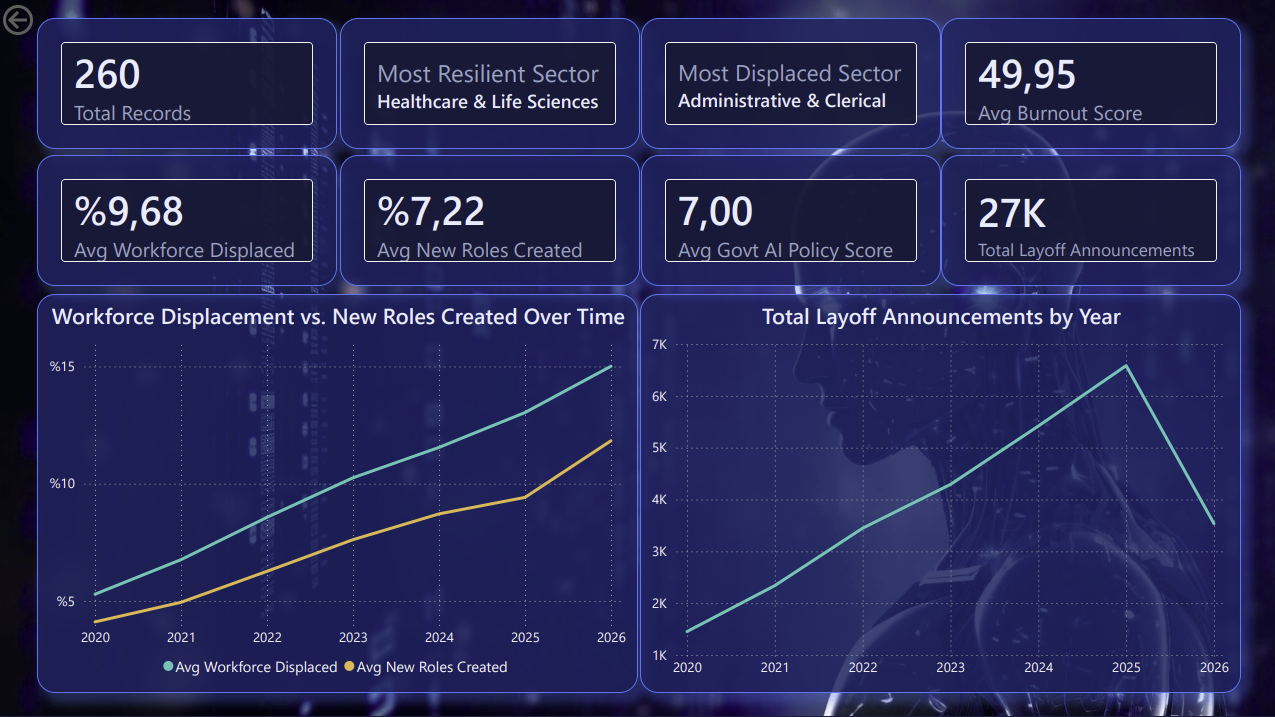

Layout of this report page (visuals, bound fields, positions):
{"tool":"powerbi","page":{"name":"Country Detail","canvas":[1280,720],"ordinal":7},"visuals":[{"type":"actionButton","box":[0,0,100,40],"z":0},{"type":"cardVisual","fields":{"Data":["ai_workforce_displacement_global_2020_2026.Total Records"]},"box":[39.3,17.9,300,131],"z":1000},{"type":"cardVisual","fields":{"Data":["ai_workforce_displacement_global_2020_2026.Most Resilient Sector"]},"box":[341.7,17.9,300,131],"z":2000},{"type":"cardVisual","fields":{"Data":["ai_workforce_displacement_global_2020_2026.Most Displaced Sector"]},"box":[642.9,17.9,300,131],"z":3000},{"type":"cardVisual","fields":{"Data":["ai_worker_burnout_attrition_2026.Avg Burnout Score"]},"box":[942.9,17.9,300,131],"z":4000},{"type":"lineChart","title":"Workforce Displacement vs. New Roles Created Over Time","fields":{"Category":["ai_workforce_displacement_global_2020_2026.year"],"Y":["ai_workforce_displacement_global_2020_2026.Avg Workforce Displaced","ai_workforce_displacement_global_2020_2026.Avg New Roles Created"]},"box":[39.3,294,601.2,398.8],"z":5000},{"type":"lineChart","title":"Total Layoff Announcements by Year","fields":{"Category":["ai_workforce_displacement_global_2020_2026.year"],"Y":["ai_workforce_displacement_global_2020_2026.Total Layoff Announcements"]},"box":[641.7,294,601.2,398.8],"z":6000},{"type":"cardVisual","fields":{"Data":["ai_workforce_displacement_global_2020_2026.Avg Workforce Displaced"]},"box":[39.3,154.8,300,131],"z":7000},{"type":"cardVisual","fields":{"Data":["ai_workforce_displacement_global_2020_2026.Avg New Roles Created"]},"box":[341.7,154.8,300,131],"z":8000},{"type":"cardVisual","fields":{"Data":["ai_workforce_displacement_global_2020_2026.Avg Govt AI Policy Score"]},"box":[642.9,154.8,300,131],"z":9000},{"type":"cardVisual","fields":{"Data":["ai_workforce_displacement_global_2020_2026.Total Layoff Announcements"]},"box":[942.9,154.8,300,131],"z":10000}]}

Visuals, with their boxes on the page's 1280x720 design canvas (x1, y1, x2, y2). These are canvas units, not pixel positions in the 1275x717 screenshot, which may show the page scaled, cropped or inside an application window:
actionButton: <box>0,0,100,40</box>
cardVisual - ai_workforce_displacement_global_2020_2026.Total Records: <box>39,18,339,149</box>
cardVisual - ai_workforce_displacement_global_2020_2026.Most Resilient Sector: <box>342,18,642,149</box>
cardVisual - ai_workforce_displacement_global_2020_2026.Most Displaced Sector: <box>643,18,943,149</box>
cardVisual - ai_worker_burnout_attrition_2026.Avg Burnout Score: <box>943,18,1243,149</box>
"Workforce Displacement vs. New Roles Created Over Time" lineChart: <box>39,294,640,693</box>
"Total Layoff Announcements by Year" lineChart: <box>642,294,1243,693</box>
cardVisual - ai_workforce_displacement_global_2020_2026.Avg Workforce Displaced: <box>39,155,339,286</box>
cardVisual - ai_workforce_displacement_global_2020_2026.Avg New Roles Created: <box>342,155,642,286</box>
cardVisual - ai_workforce_displacement_global_2020_2026.Avg Govt AI Policy Score: <box>643,155,943,286</box>
cardVisual - ai_workforce_displacement_global_2020_2026.Total Layoff Announcements: <box>943,155,1243,286</box>
